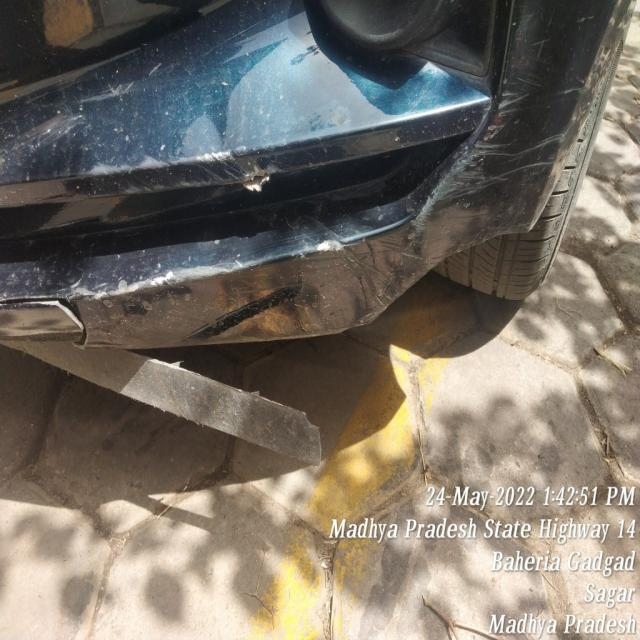damage: (109, 324, 343, 441), (400, 132, 484, 252), (215, 117, 302, 219), (2, 288, 108, 358), (304, 218, 362, 280)
